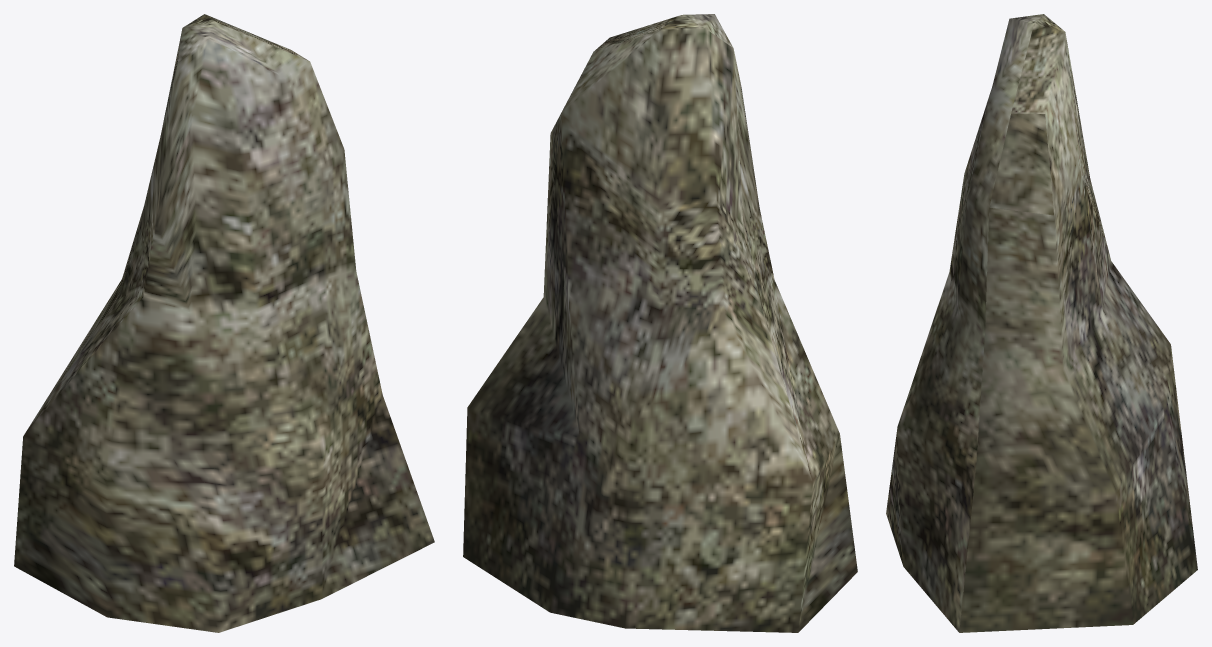
The model's file is general_obj_stone09.fbx.
The picture shows the model from 3 angles, left to right: view 1: azimuth 30°, elevation 25°; view 2: azimuth 150°, elevation 25°; view 3: azimuth 270°, elevation 25°; orthographic projection. The views are drawn at different scales.
Parts seen in each view (by area): view 1: Sphere01; view 2: Sphere01; view 3: Sphere01.
Part boxes in pixels (left/top/right/bottom): Sphere01: left=14, top=14, right=434, bottom=632; Sphere01: left=463, top=14, right=857, bottom=632; Sphere01: left=886, top=14, right=1197, bottom=632.
Size of the model in its own units: 1.32 by 1.98 by 1.07.
